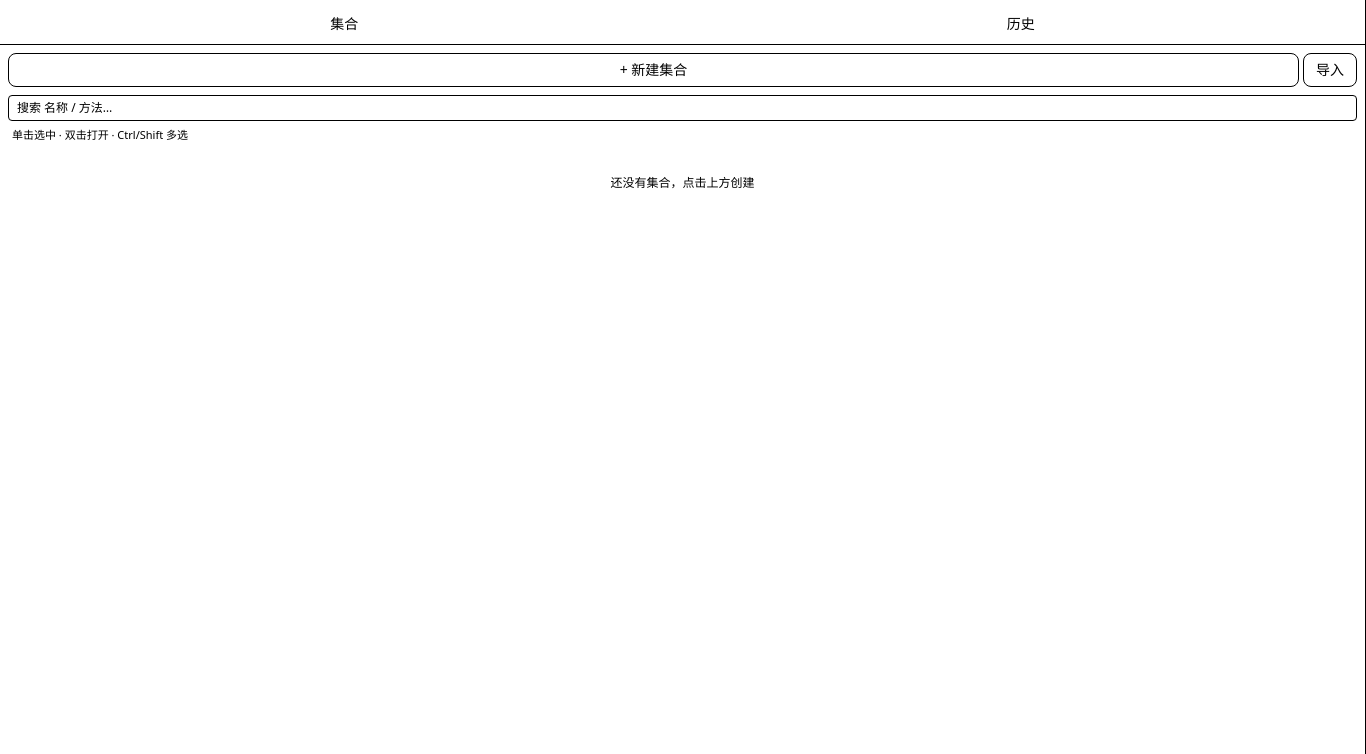
Test: HistoryList virtualized viewport › expands the window when the scroller reports a real viewport height
Step 1. Click the button "历史" → x=1021, y=24, box [684,8,1357,40]
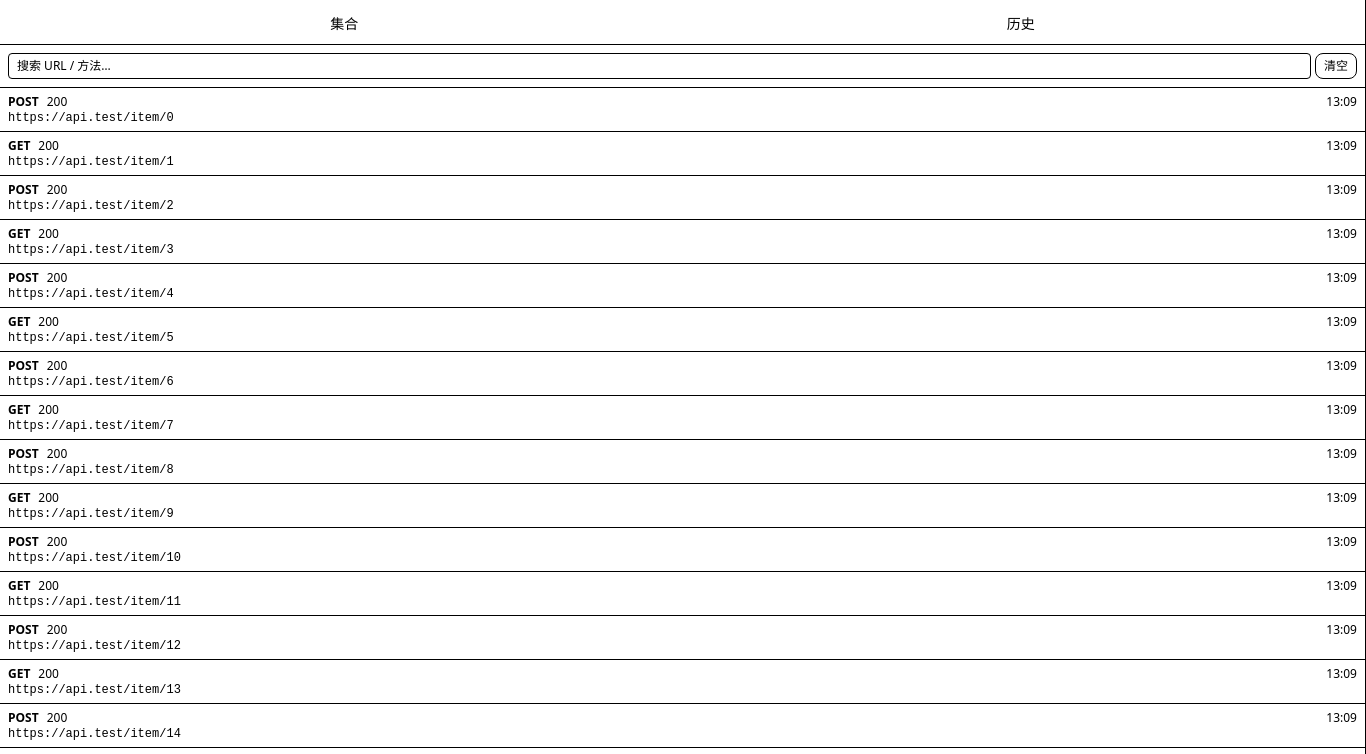
Now the text "https://api.test/item/0" is shown, box [8,111,174,125]
